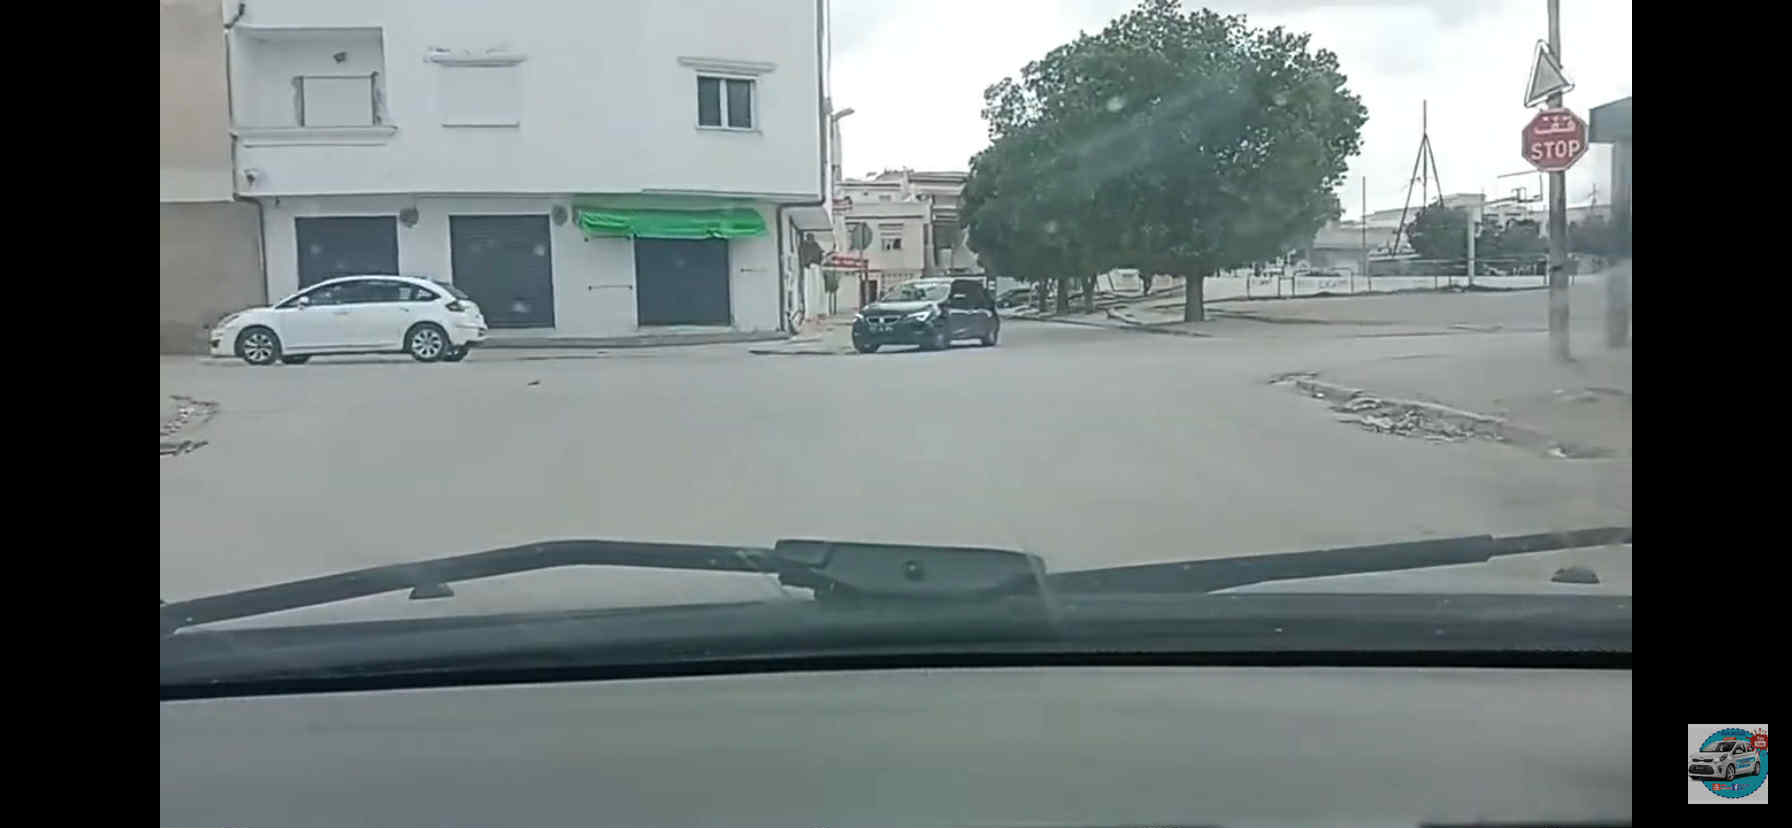Stop: (1520, 108, 1590, 173)
